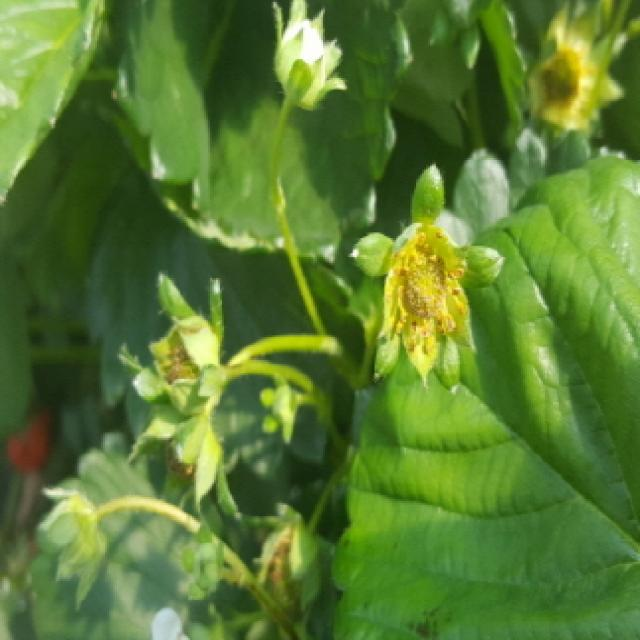Blossom Blight: (382, 221, 473, 359)
